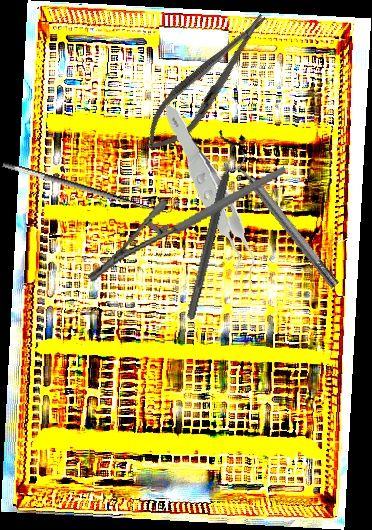Fixation Ring: (222, 148, 345, 295), (175, 129, 249, 323)
Hook Surgical: (1, 147, 178, 222)
Needle Holder: (75, 166, 299, 284), (132, 2, 282, 163)
Tissue Forceps: (148, 105, 269, 289)
